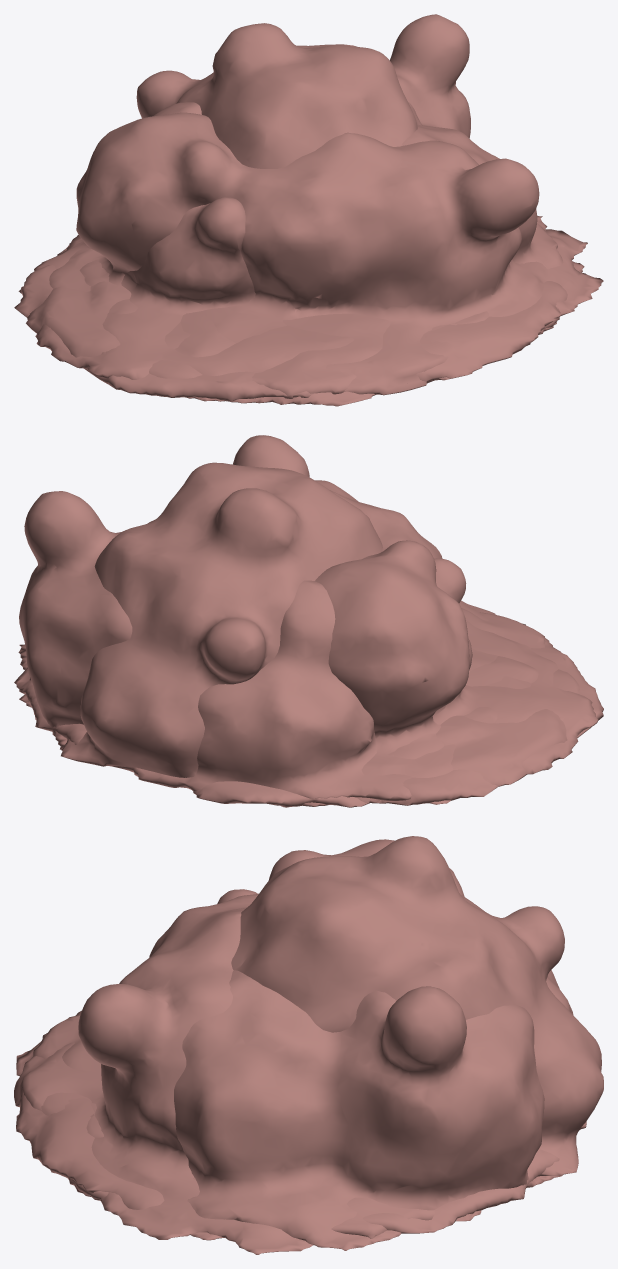
The model's file is flesh_growth.glb.
3 views of the same model, one above another, from view 1: azimuth 30°, elevation 25°; view 2: azimuth 150°, elevation 25°; view 3: azimuth 270°, elevation 25° (orthographic). The views are drawn at different scales.
Visible parts, largest first — view 1: GrowthC, GrowthB, GrowthA; view 2: GrowthB, GrowthA, GrowthC; view 3: GrowthA, GrowthB, GrowthC.
Part boxes in pixels (x1,y1,x2,y2): GrowthC: [49, 112, 603, 401]; GrowthB: [14, 23, 567, 406]; GrowthA: [18, 14, 584, 401]; GrowthB: [19, 462, 598, 807]; GrowthA: [18, 491, 579, 805]; GrowthC: [14, 435, 603, 806]; GrowthA: [16, 895, 586, 1250]; GrowthB: [16, 836, 603, 1238]; GrowthC: [14, 839, 559, 1254].
Size of the model in its own units: 0.9235 by 0.4027 by 0.7959.
